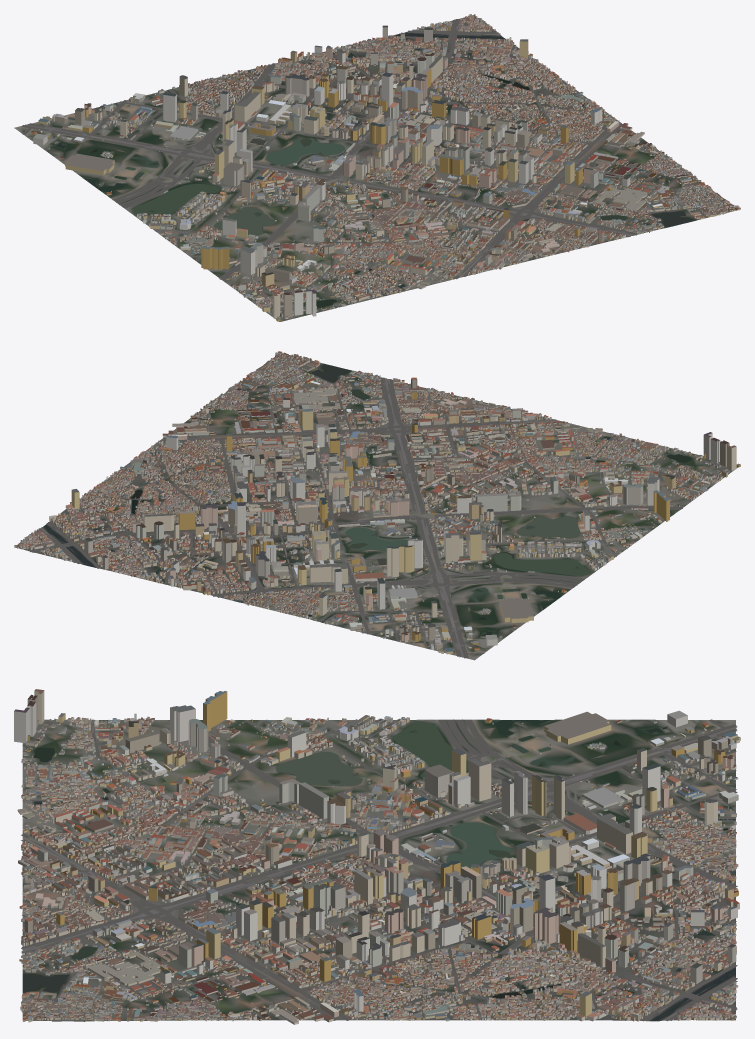
The picture shows the model from 3 angles, top to bottom: view 1: azimuth 30°, elevation 25°; view 2: azimuth 150°, elevation 25°; view 3: azimuth 270°, elevation 25°; orthographic projection. The views are drawn at different scales.
Visible parts, largest first — view 1: buildings, ground, roads, water; view 2: buildings, ground, roads, water; view 3: buildings, ground, roads, water.
Boxes of the visible parts, x1,y1,x2,y2 form: buildings: (32,14,740,321); ground: (14,15,736,321); roads: (21,19,726,303); water: (50,33,695,307); buildings: (14,351,740,654); ground: (14,353,737,660); roads: (29,360,724,658); water: (43,363,691,635); buildings: (14,689,740,1024); ground: (22,719,735,1021); roads: (21,719,737,1021); water: (22,720,735,1020).
Bounding box in the file's own units: 2865 × 182 × 2857.
